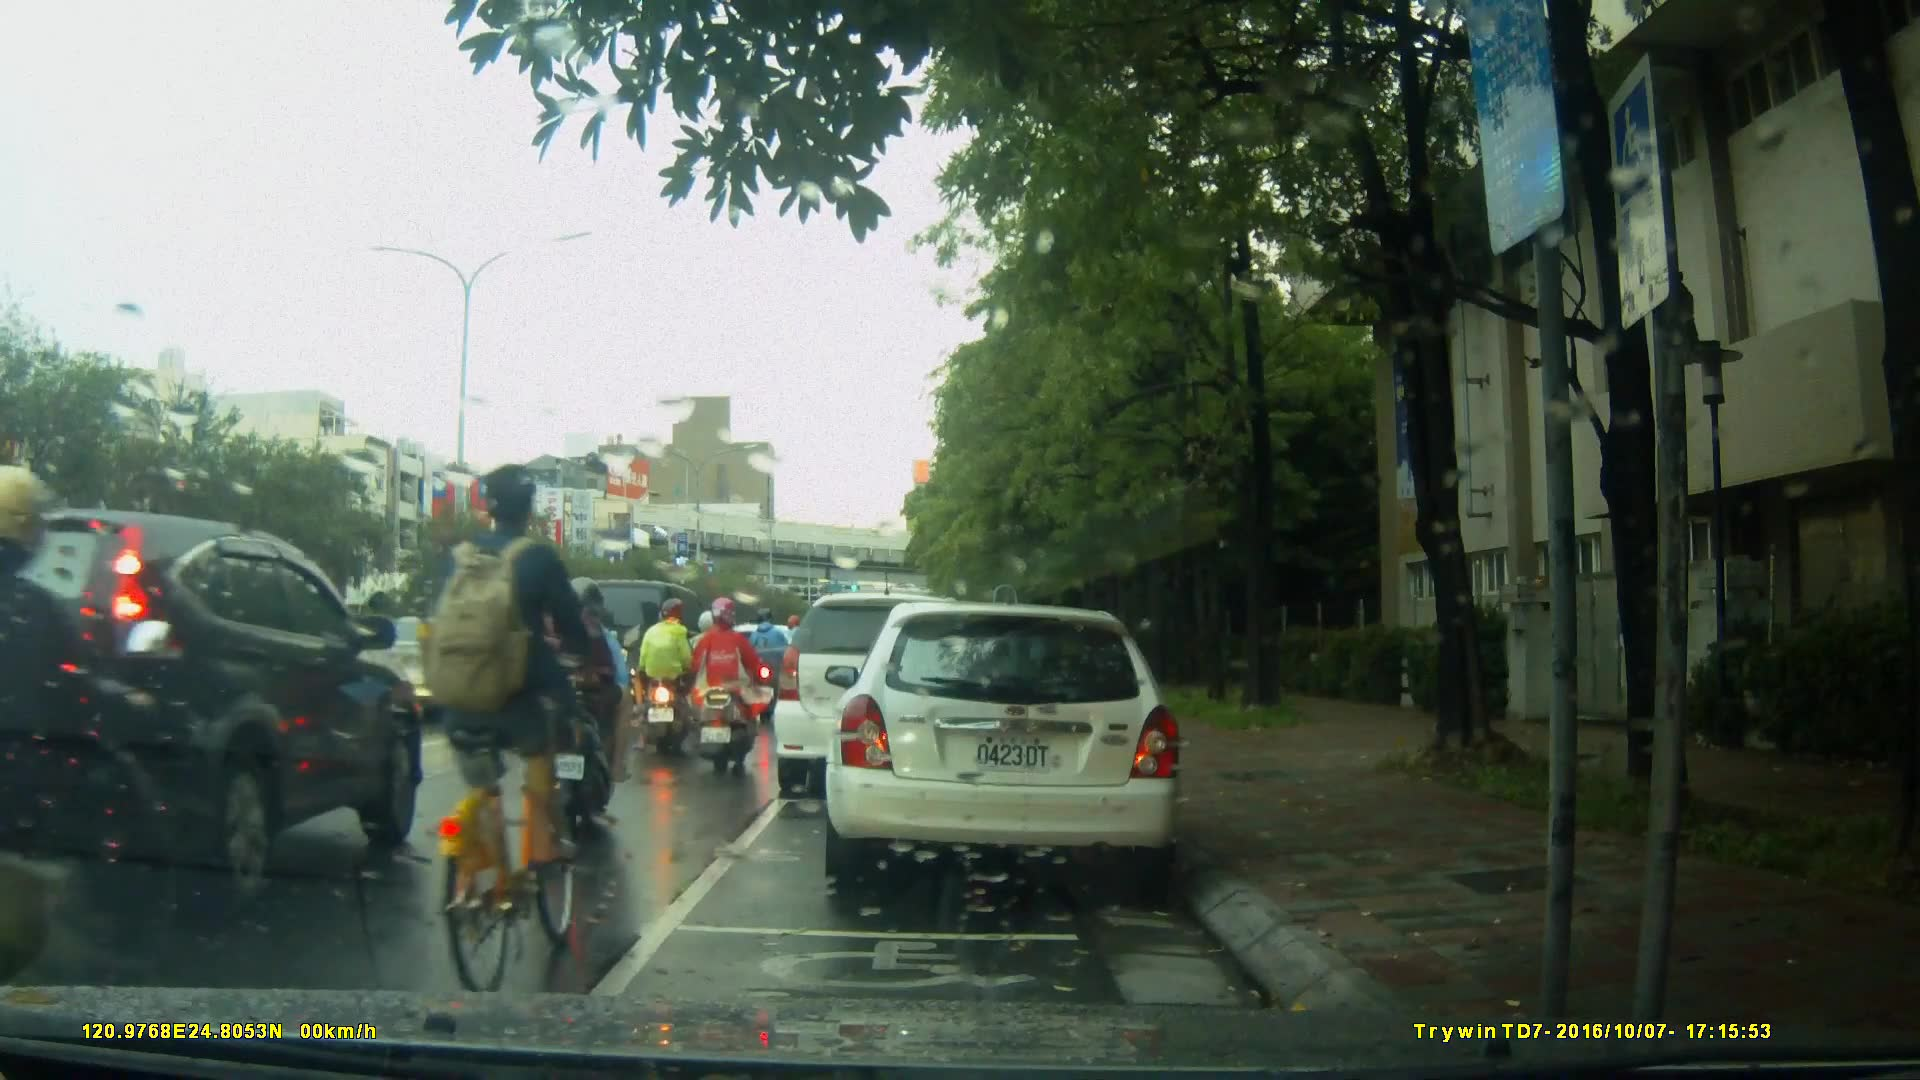rider: (1, 476, 192, 1054), (429, 464, 605, 995), (536, 577, 633, 832), (682, 597, 756, 775), (637, 601, 708, 757), (467, 602, 532, 730), (680, 604, 745, 727), (747, 601, 798, 728)
vehicle: (2, 508, 421, 924), (822, 604, 1188, 883), (774, 595, 995, 802), (340, 610, 525, 725)
